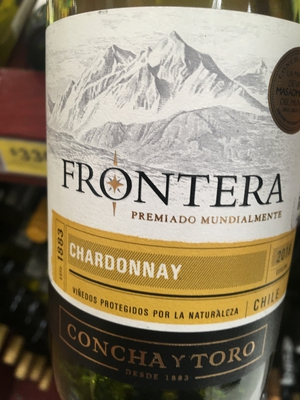frontera chardonnay: (39, 5, 299, 400)
